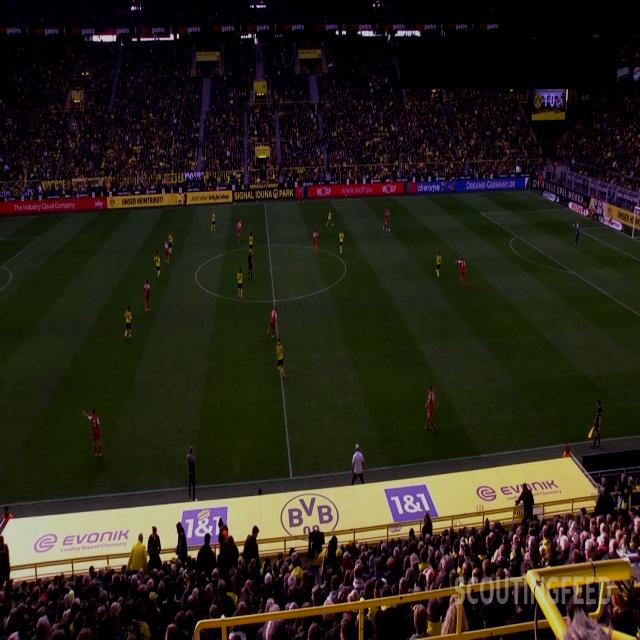ball: (388, 228, 391, 232)
f_player: (82, 408, 102, 460), (426, 384, 438, 432), (454, 256, 468, 290), (276, 336, 286, 380), (122, 304, 134, 340), (142, 280, 152, 314), (268, 306, 278, 340), (572, 220, 582, 248), (153, 250, 161, 279), (434, 250, 442, 278), (237, 266, 244, 298), (312, 228, 320, 254), (382, 208, 390, 232), (163, 240, 170, 266), (326, 208, 334, 230), (210, 208, 217, 232), (236, 218, 242, 244), (168, 230, 174, 256), (338, 230, 344, 254), (248, 230, 254, 253), (298, 186, 304, 204)
umpire: (247, 250, 254, 281)
